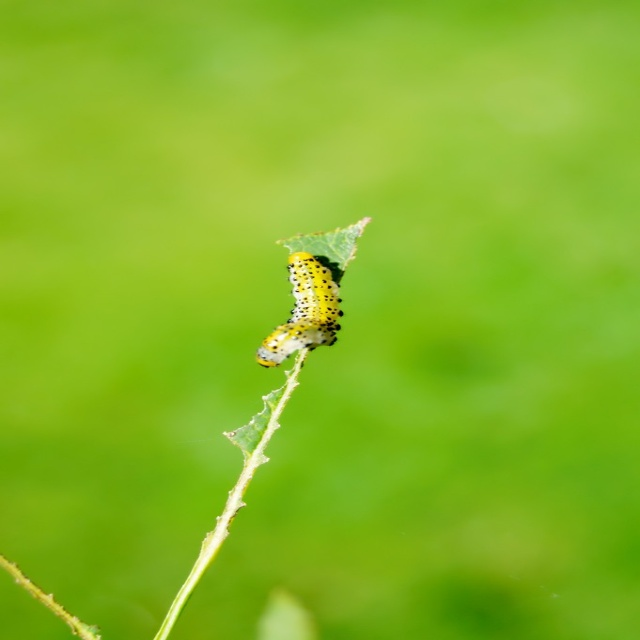Caterpillar: (254, 246, 349, 364)
